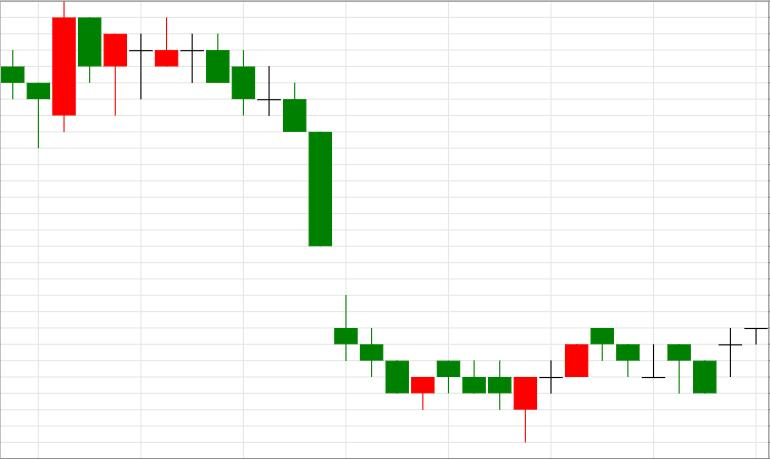hammer_rise: (283, 81, 536, 444)
